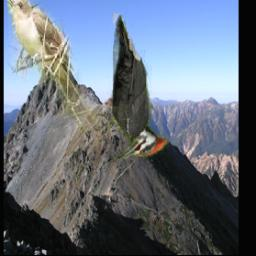Cuckoo: (6, 0, 101, 136)
Woodpecker: (94, 14, 168, 161)
